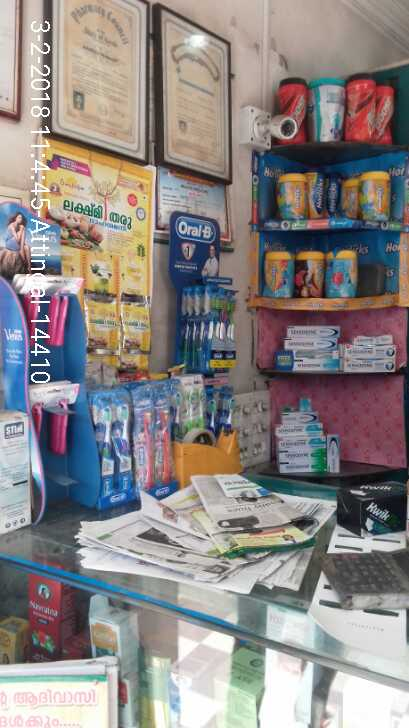oralb: (93, 387, 117, 501), (112, 390, 135, 497)
